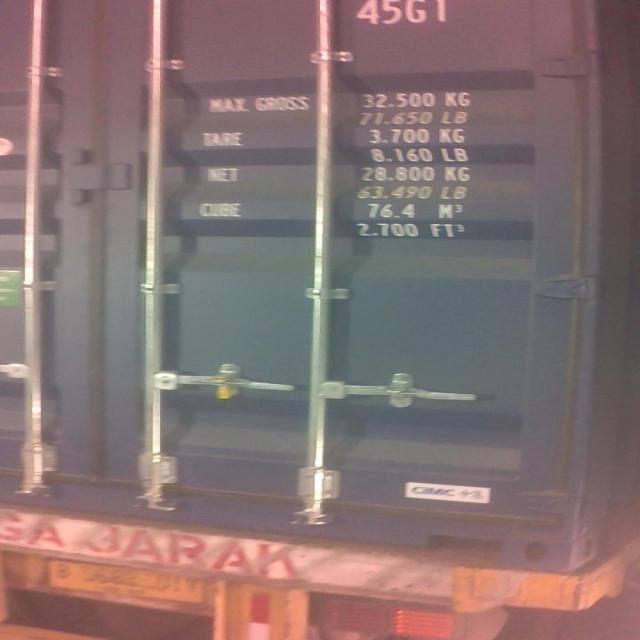seal: (210, 371, 240, 402)
